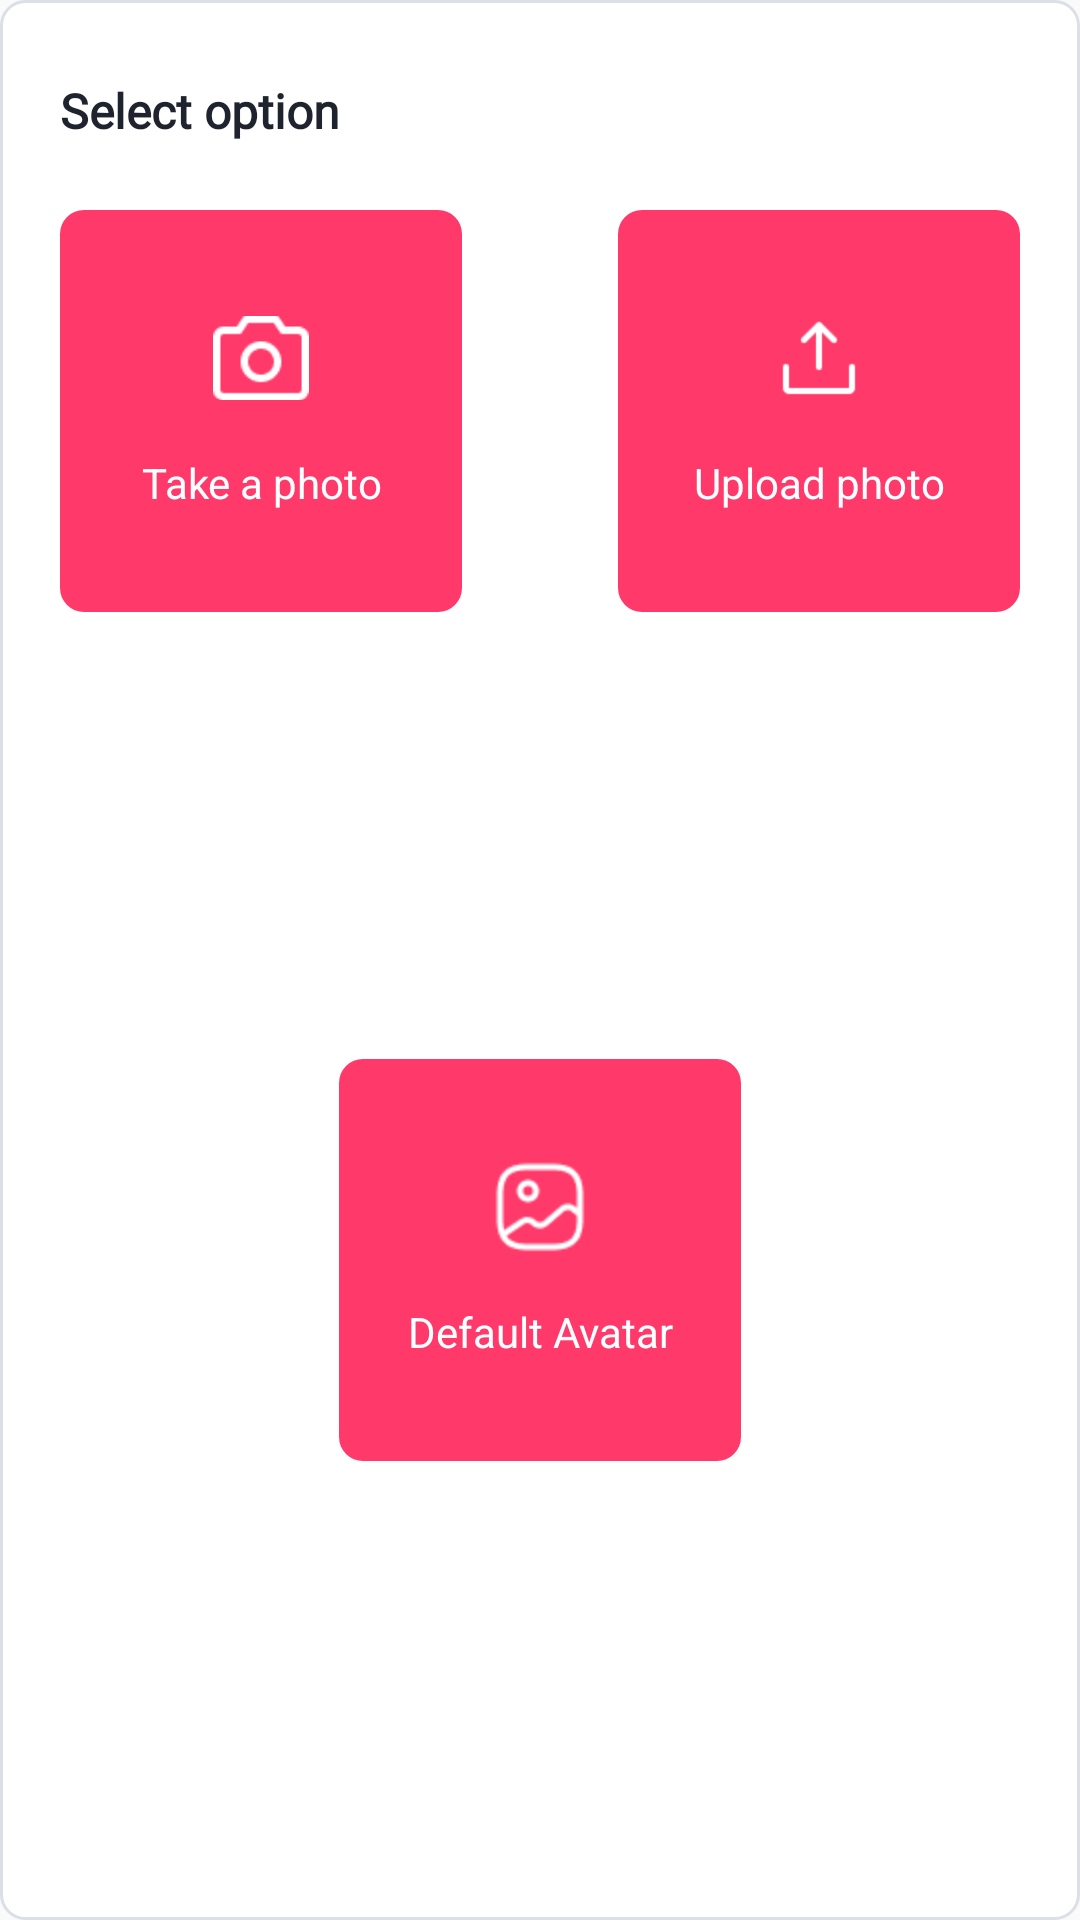

Icon bounding boxes for this 1080×1920 phone screenshot, format (x1, y1, x2, y2):
camera: (213, 316, 309, 400)
